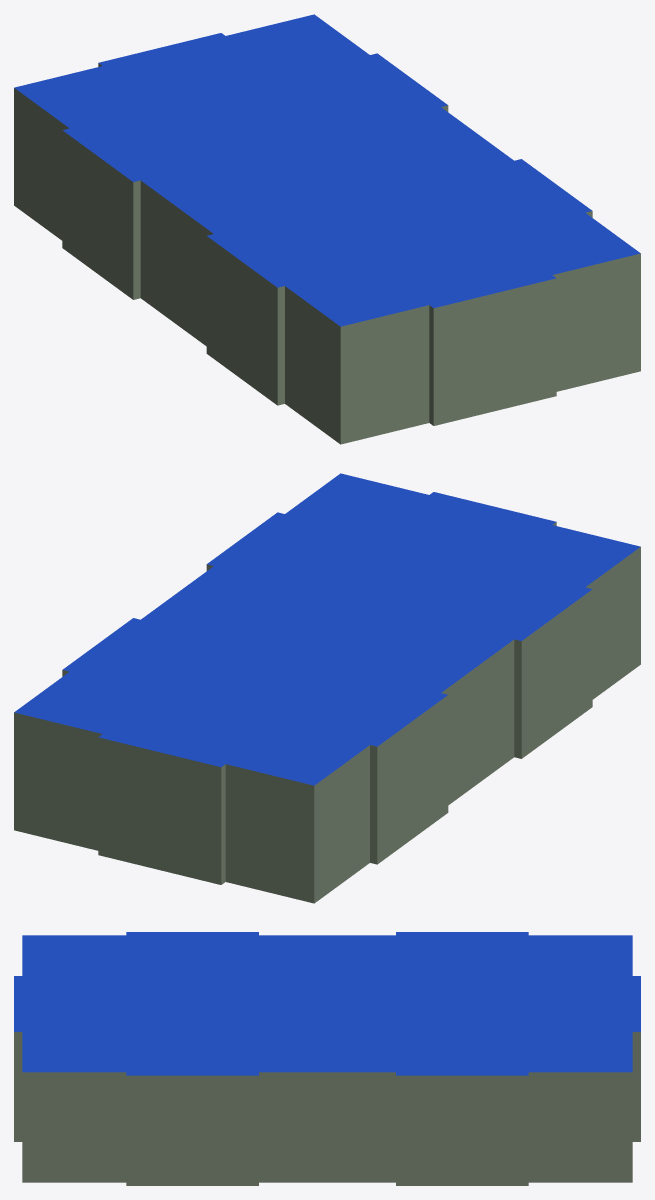
Rendered from Museum.fbx.
3 views of the same model, one above another, from view 1: azimuth 30°, elevation 25°; view 2: azimuth 150°, elevation 25°; view 3: azimuth 270°, elevation 25° (orthographic). The views are drawn at different scales.
Parts seen in each view (by area): view 1: Cube.001; view 2: Cube.001; view 3: Cube.001.
Part boxes in pixels (x1=…): Cube.001: x1=14, y1=14, x2=640, y2=444; Cube.001: x1=14, y1=473, x2=640, y2=903; Cube.001: x1=14, y1=932, x2=640, y2=1185.
Size of the model in its own units: 1049 by 375 by 1934.
